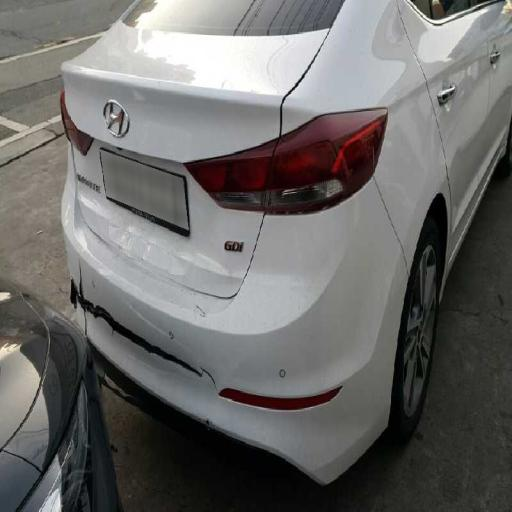broken: (71, 262, 226, 404)
dent: (88, 178, 262, 287)
